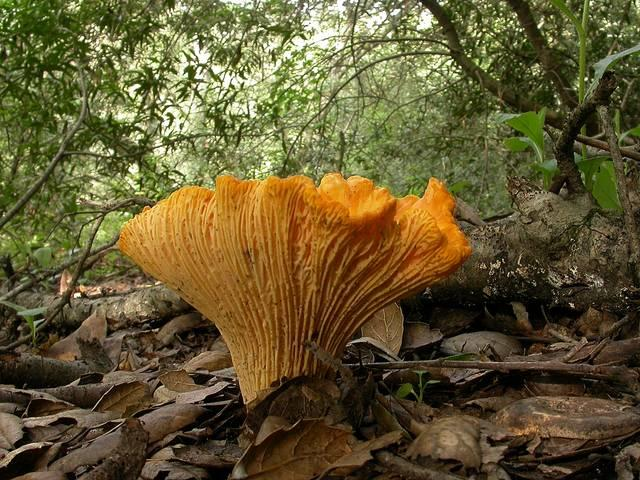Edible Mushroom: (116, 170, 472, 413)
